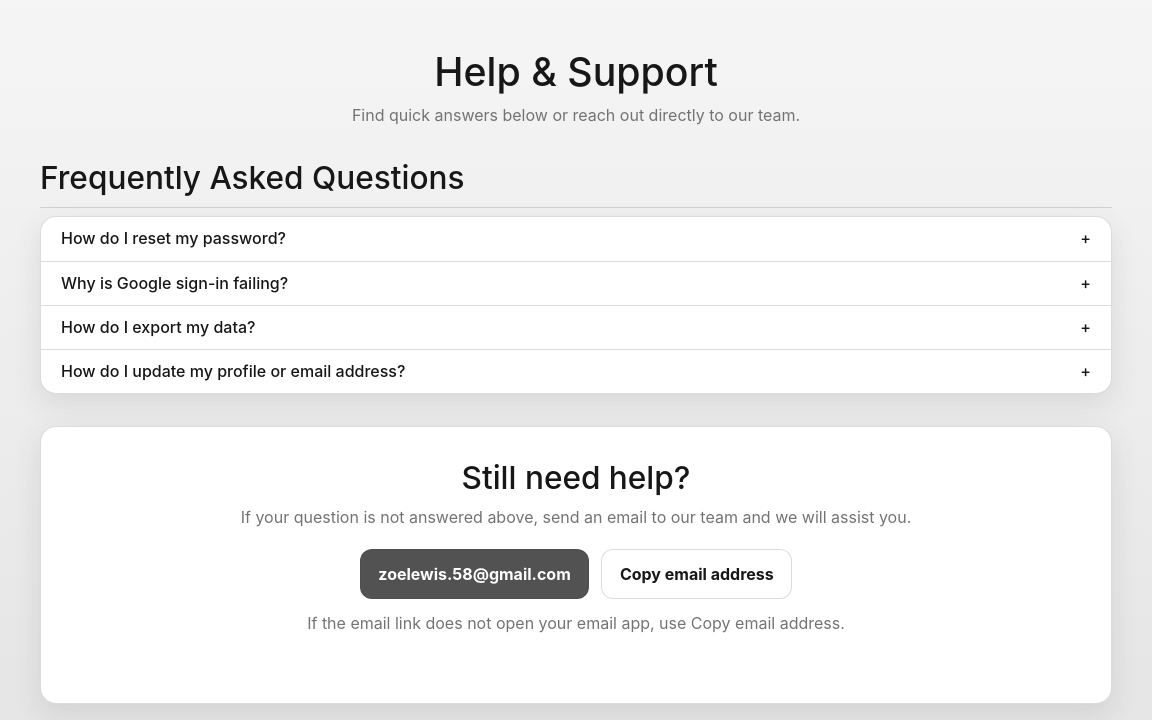
Test case: HelpSupport › shows a selectable-copy fallback when clipboard access is denied
Click the button "Copy email address": (697, 574) [601, 549, 792, 599]
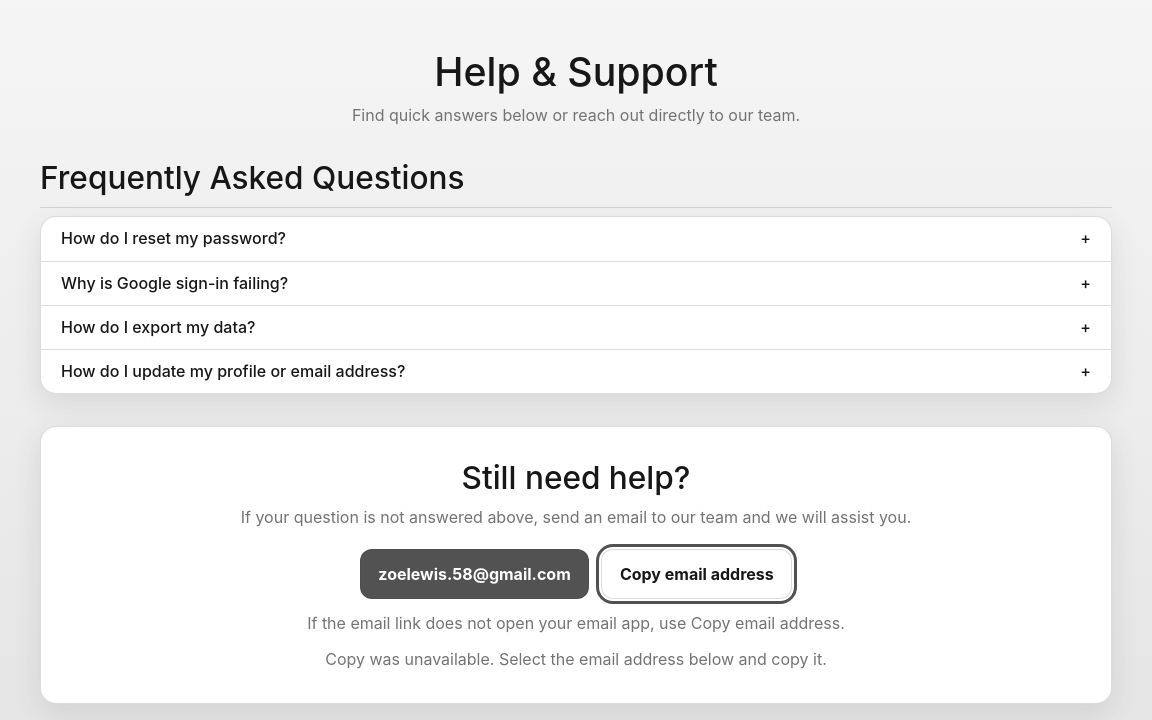
Expected: the link "zoelewis.58@gmail.com" is shown, [360, 549, 589, 599]
Expected: the message shows "Select the email address below and copy it", [325, 649, 827, 669]
